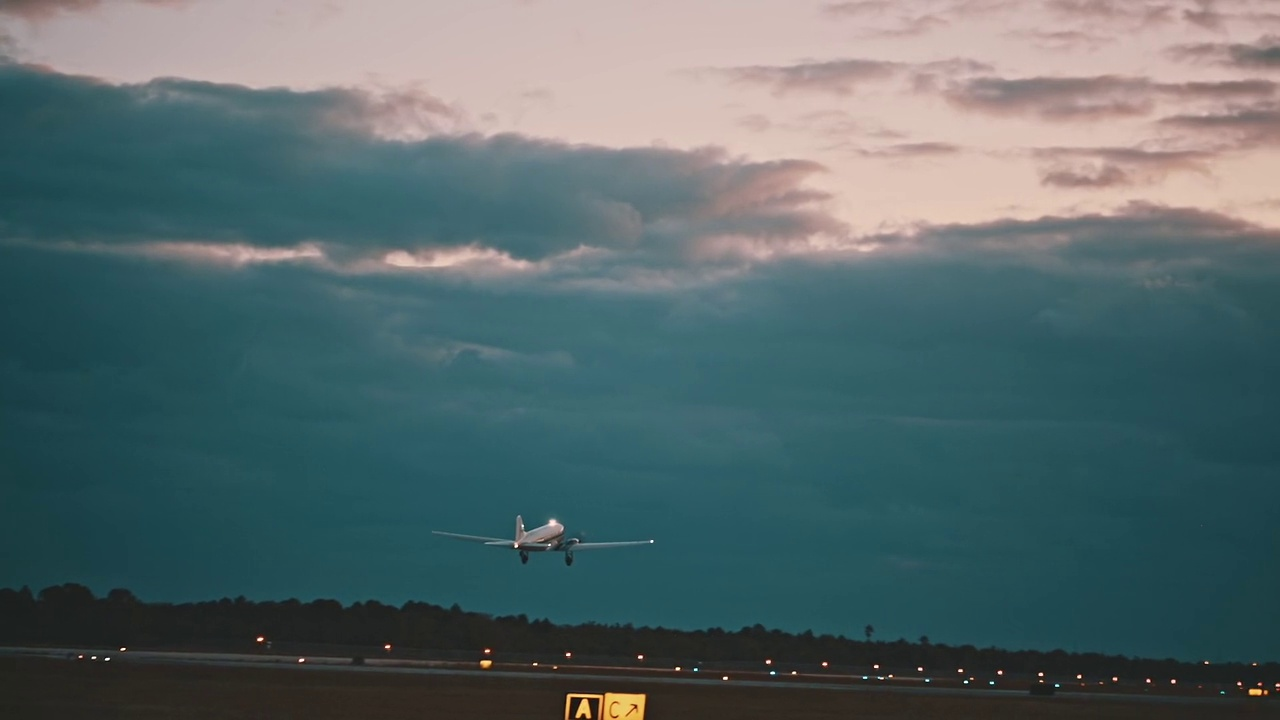plane: (430, 513, 656, 566)
